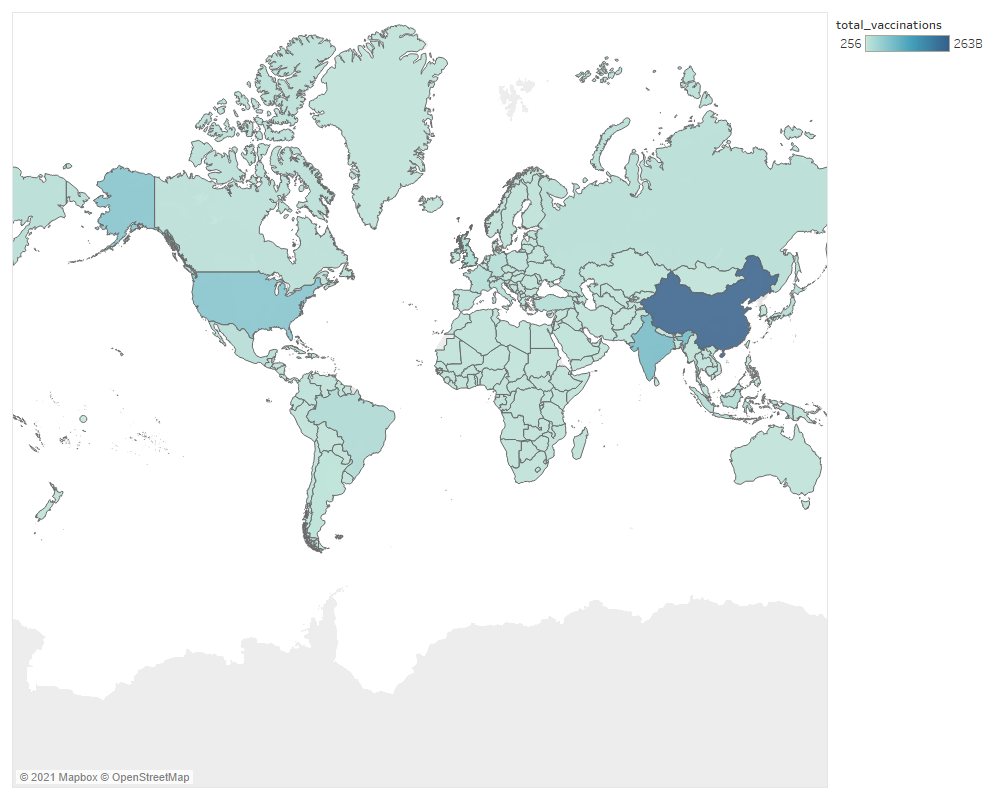

What the dashboard file says about the page in this screenshot:
{"tool":"tableau","page":{"name":"Dashboard 1","canvas":[1000,800],"ordinal":0},"visuals":[{"type":"worksheet","title":"Sheet 7","mark":"Automatic","rows":["country"],"cols":["people_fully_vaccinated"],"box":[8,8,984,784]}]}

Visuals, with their boxes in screenshot pixels (x1, y1, x2, y2), scaled from the page's 1000x800 canvas onto the 1000x800 screenshot:
"Sheet 7" worksheet: {"x1": 8, "y1": 8, "x2": 992, "y2": 792}
